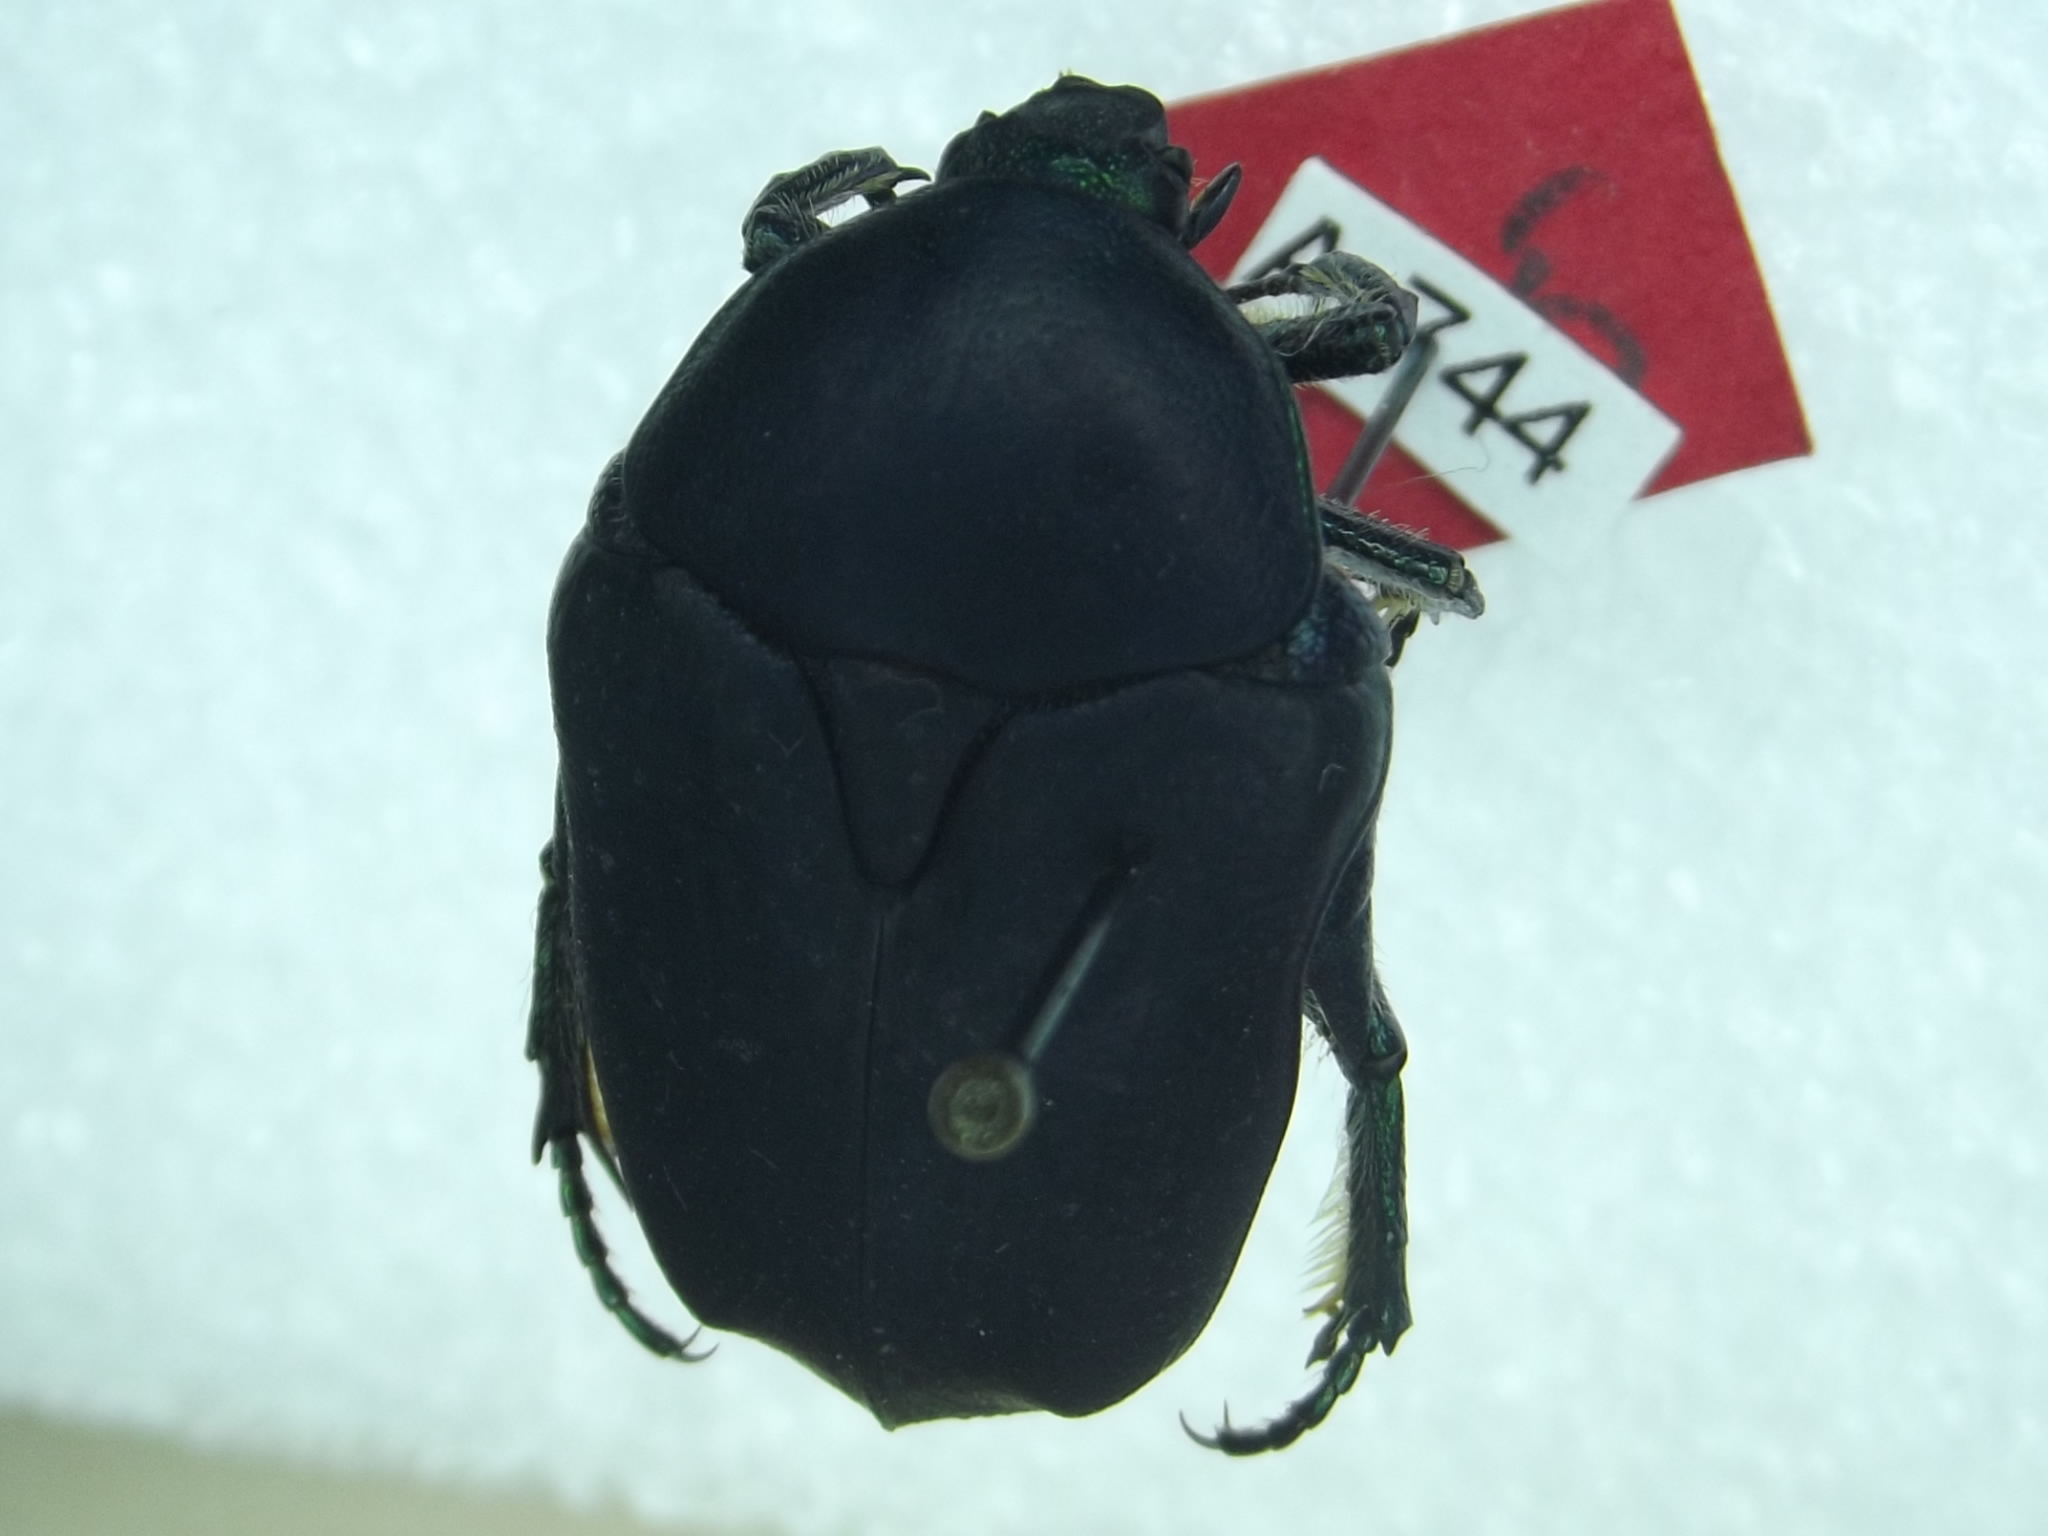Protaetia_afflicta: (489, 56, 1442, 1494)
